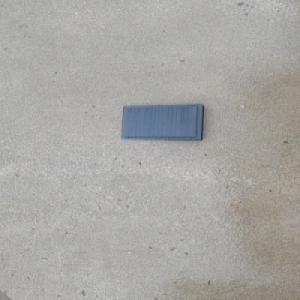PlasticPart: (119, 104, 206, 142)
